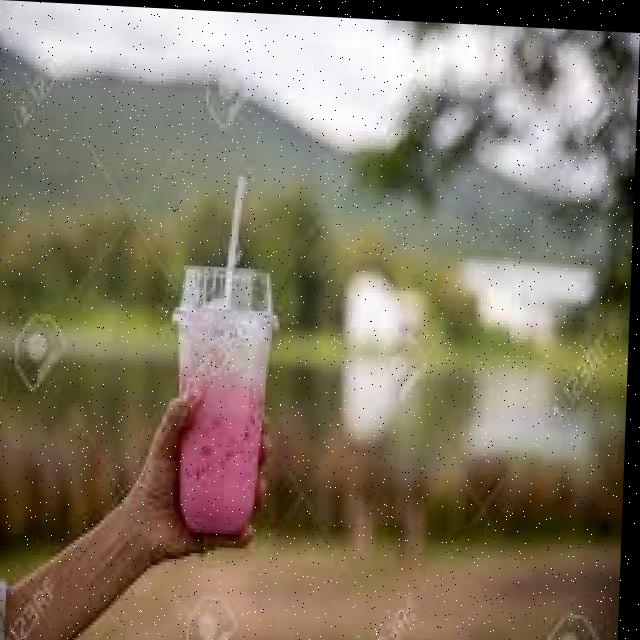cup: (177, 264, 272, 532)
